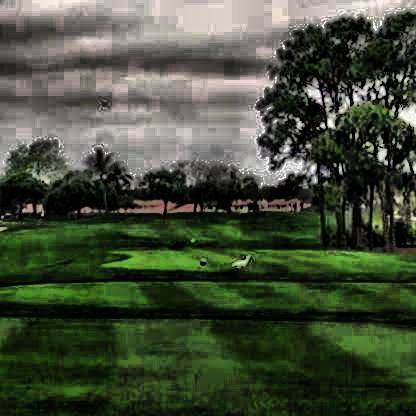golfball: (98, 98, 103, 105)
